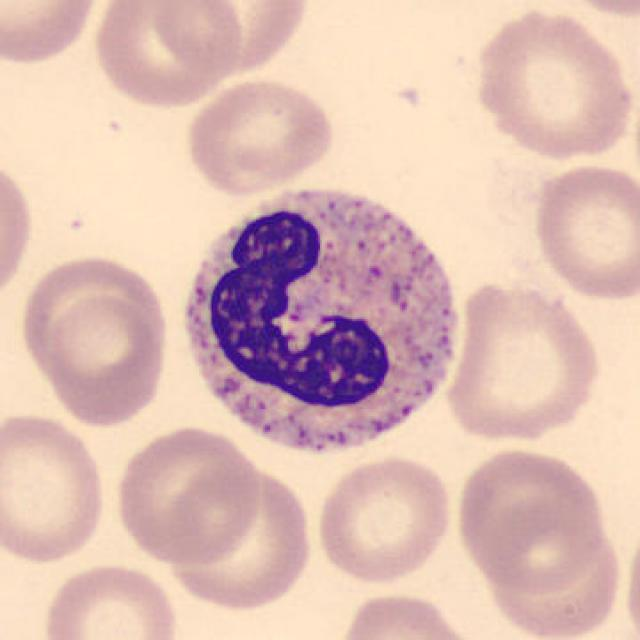Neutrophil: (167, 171, 471, 476)
RBC: (441, 277, 604, 446), (468, 5, 636, 164), (160, 458, 316, 616), (452, 441, 610, 594), (110, 421, 263, 568), (18, 250, 168, 390), (34, 291, 172, 434), (313, 451, 457, 587), (181, 74, 338, 198), (0, 409, 110, 568), (480, 523, 627, 640), (89, 0, 240, 111), (528, 159, 638, 303), (160, 0, 313, 78), (37, 559, 182, 640), (334, 589, 480, 640), (0, 0, 103, 67), (0, 152, 36, 310), (622, 509, 640, 640), (551, 0, 638, 19)
